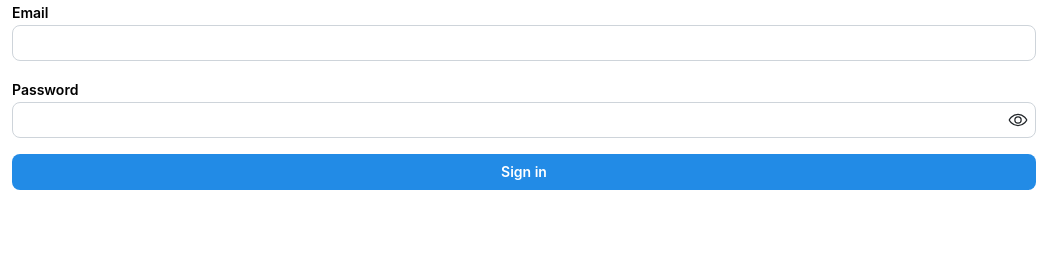
Test case: SignInForm › shows the refusal and keeps what was typed
Type "yoast.manager@example.com" into the field labelled "Email" at coordinates (524, 43), box x1=12 y1=25 x2=1036 y2=61
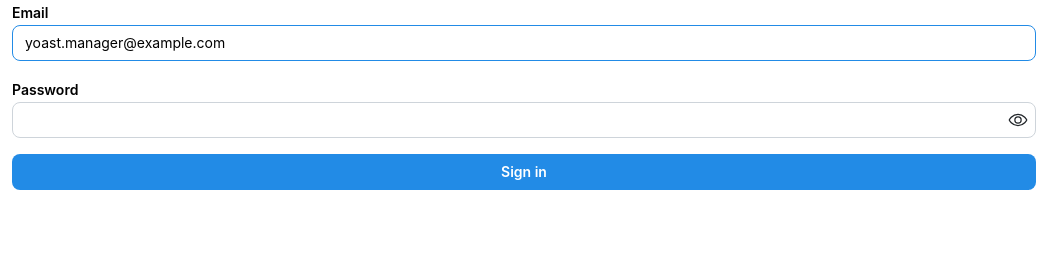
Type "wrong-password" into the password field labelled "Password" at coordinates (524, 120), box x1=13 y1=103 x2=1035 y2=137
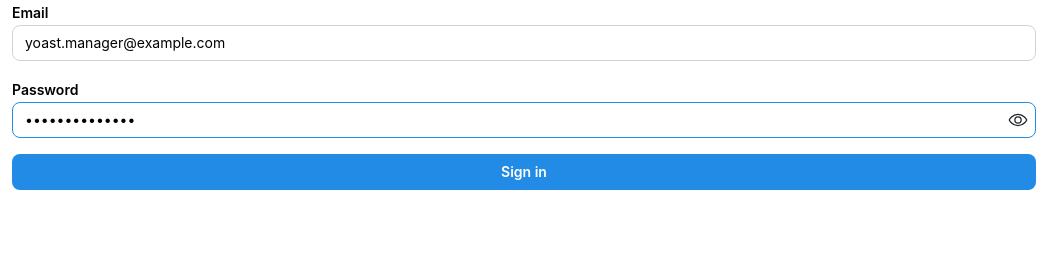
Click the button "Sign in" at coordinates (524, 172), box x1=12 y1=154 x2=1036 y2=190
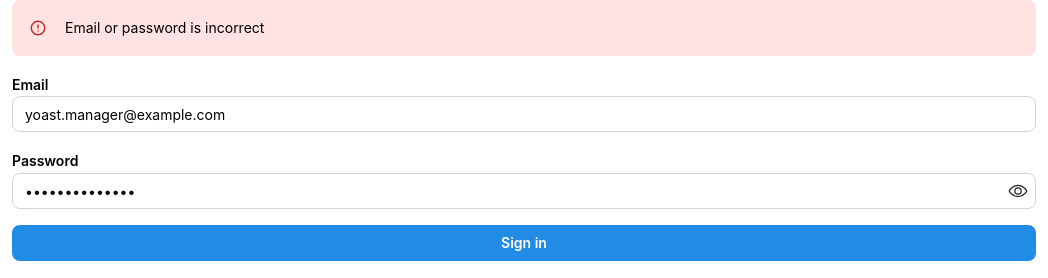
Expected: the text "Email or password is incorrect" is shown, x1=65 y1=19 x2=264 y2=36
